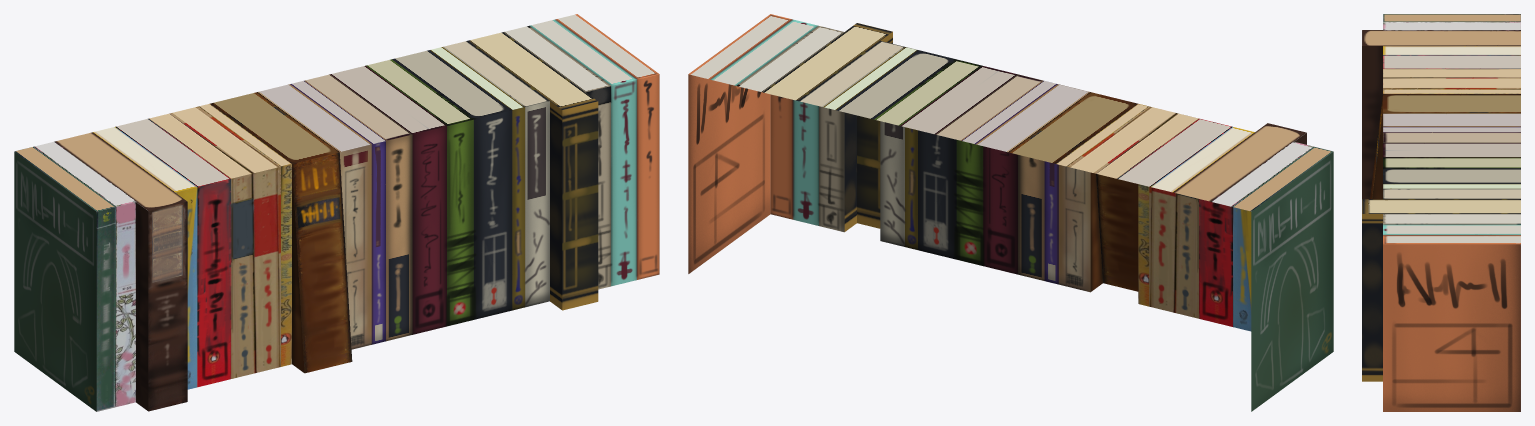
Rendered from Bookpack1.fbx.
3 views of the same model, side by side, from view 1: azimuth 30°, elevation 25°; view 2: azimuth 150°, elevation 25°; view 3: azimuth 270°, elevation 25° (orthographic). The views are drawn at different scales.
Visible parts, largest first — view 1: books1:pCube1; view 2: books1:pCube1; view 3: books1:pCube1.
Part boxes in pixels (box(x1,y1,x2,y2)): books1:pCube1: box(14, 14, 659, 411); books1:pCube1: box(688, 14, 1333, 411); books1:pCube1: box(1362, 14, 1520, 411).
Size of the model in its own units: 93.05 by 31.62 by 27.15.
Materials: 1 (1 with a texture image).
